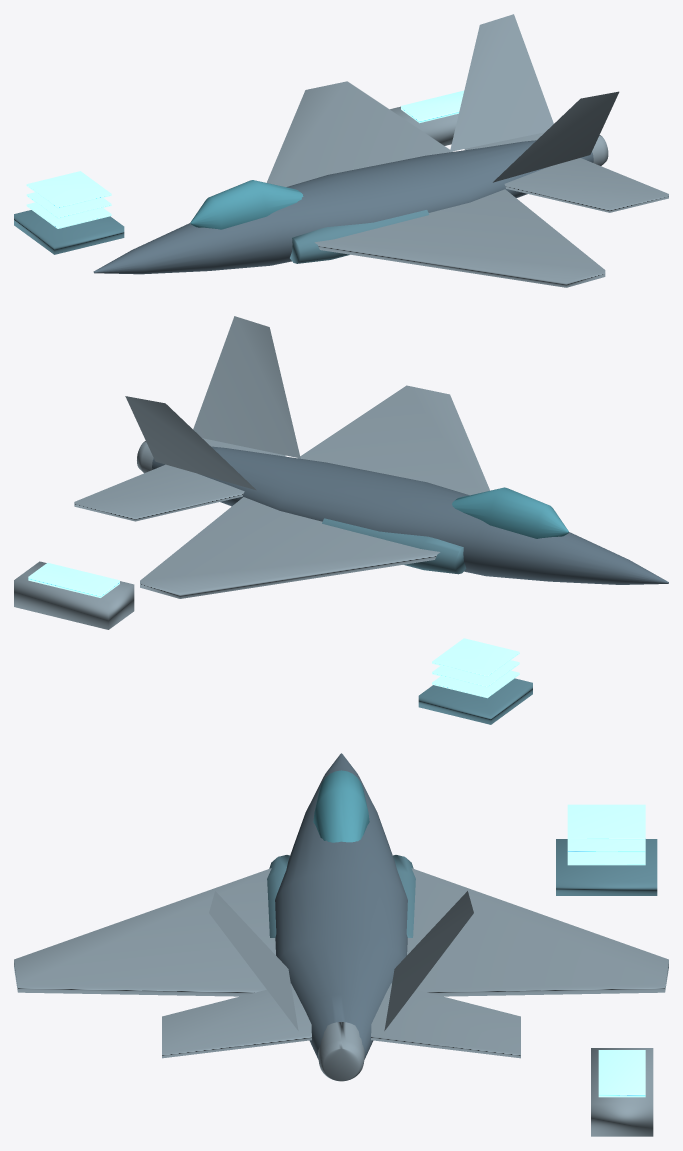
3 renders of one model, top to bottom at view 1: azimuth 30°, elevation 25°; view 2: azimuth 150°, elevation 25°; view 3: azimuth 270°, elevation 25°, orthographic. The views are drawn at different scales.
Visible parts, largest first — view 1: Airframe_0, Swept_wing_5, Swept_wing_1, Canted_vertical_tail_3, Tailplane_6, Canted_vertical_tail_7, Canopy_9, Software_tile_13, Intake_8, Software_layer_16, Support_panel_12, Ground_support_11 (+2 smaller); view 2: Airframe_0, Swept_wing_1, Swept_wing_5, Canted_vertical_tail_7, Tailplane_2, Canted_vertical_tail_3, Ground_support_11, Canopy_9, Software_tile_13, Intake_4, Software_layer_16, Support_panel_12 (+2 smaller); view 3: Airframe_0, Swept_wing_5, Swept_wing_1, Tailplane_2, Tailplane_6, Software_tile_13, Ground_support_11, Canted_vertical_tail_3, Canted_vertical_tail_7, Canopy_9, Software_layer_16, Support_panel_12 (+5 smaller).
Part boxes in pixels (x1,y1,x2,y2): Airframe_0: (93, 140, 593, 274); Swept_wing_5: (314, 189, 605, 287); Swept_wing_1: (266, 81, 452, 186); Canted_vertical_tail_3: (450, 14, 553, 151); Tailplane_6: (504, 158, 668, 212); Canted_vertical_tail_7: (493, 91, 619, 182); Canopy_9: (190, 180, 303, 229); Software_tile_13: (14, 210, 124, 254); Intake_8: (290, 210, 429, 263); Software_layer_16: (26, 171, 111, 208); Support_panel_12: (401, 90, 463, 123); Ground_support_11: (390, 106, 458, 145); Airframe_0: (152, 446, 668, 584); Swept_wing_1: (140, 497, 440, 598); Swept_wing_5: (298, 385, 489, 495); Canted_vertical_tail_7: (193, 316, 300, 458); Tailplane_2: (74, 464, 244, 521); Canted_vertical_tail_3: (125, 396, 256, 490); Ground_support_11: (14, 561, 134, 629); Canopy_9: (452, 487, 568, 538); Software_tile_13: (418, 678, 532, 724); Intake_4: (322, 518, 466, 574); Software_layer_16: (432, 638, 519, 677); Support_panel_12: (28, 562, 119, 597); Airframe_0: (275, 753, 407, 1059); Swept_wing_5: (14, 868, 275, 996); Swept_wing_1: (407, 868, 668, 996); Tailplane_2: (371, 983, 520, 1058); Tailplane_6: (162, 983, 311, 1058); Software_tile_13: (556, 839, 657, 895); Ground_support_11: (591, 1048, 653, 1136); Canted_vertical_tail_3: (384, 891, 473, 1030); Canted_vertical_tail_7: (209, 891, 298, 1030); Canopy_9: (313, 770, 369, 842); Software_layer_16: (567, 804, 645, 839); Support_panel_12: (598, 1050, 645, 1097).
Size of the model in its own units: 9.45 by 2.85 by 8.4.
